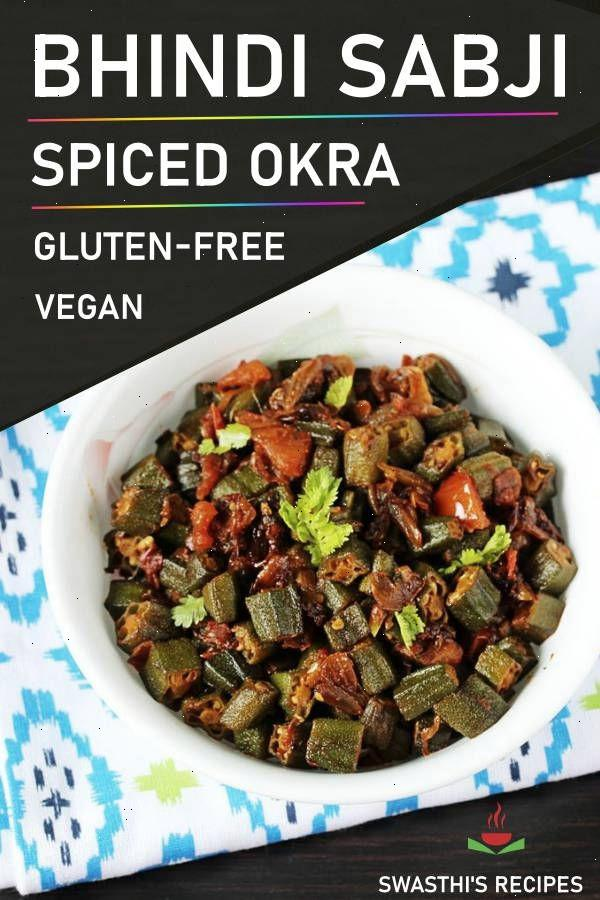bhindi: (98, 376, 567, 770)
